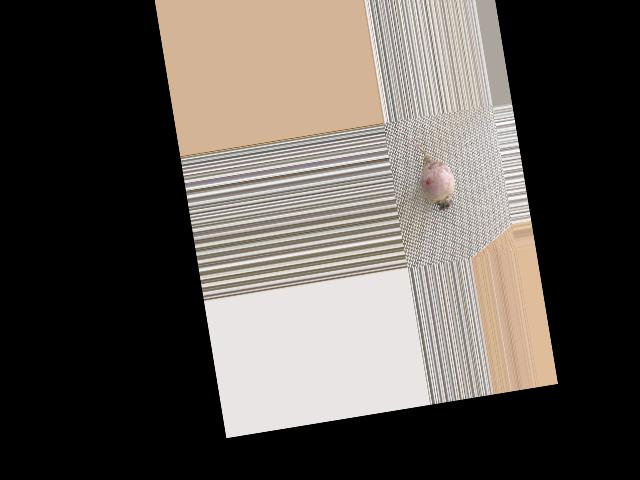beet: (398, 124, 458, 217)
